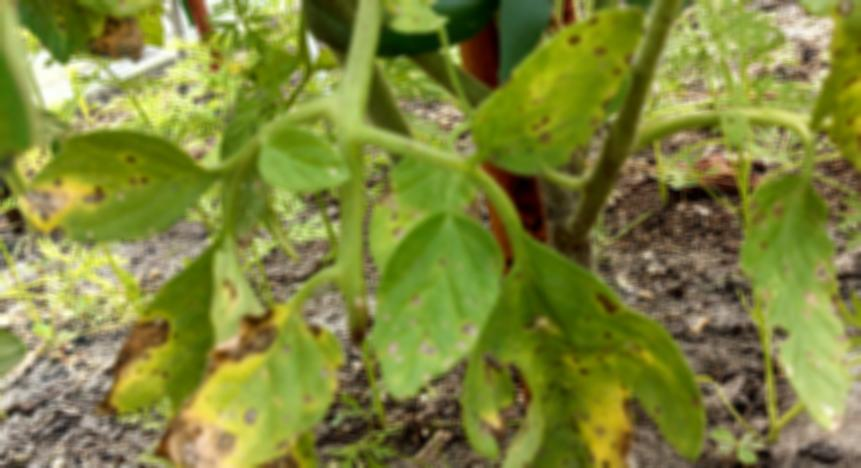Tomato Septoria leaf spot: (439, 233, 711, 468), (722, 128, 861, 468), (65, 231, 253, 442), (183, 256, 355, 468), (463, 3, 658, 189), (358, 195, 510, 409), (10, 116, 207, 246)
